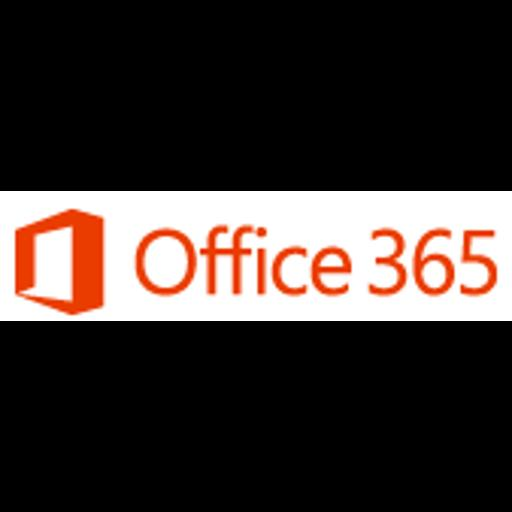Outlook: (0, 191, 512, 321)
